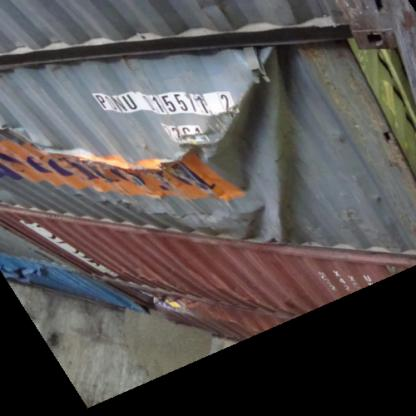Damage: (0, 115, 206, 192), (192, 46, 291, 183), (56, 188, 298, 244)
